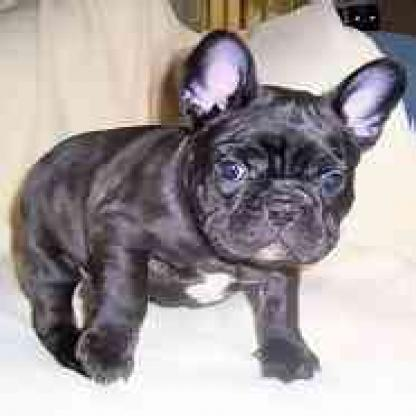French_bulldog: (7, 25, 407, 387)
